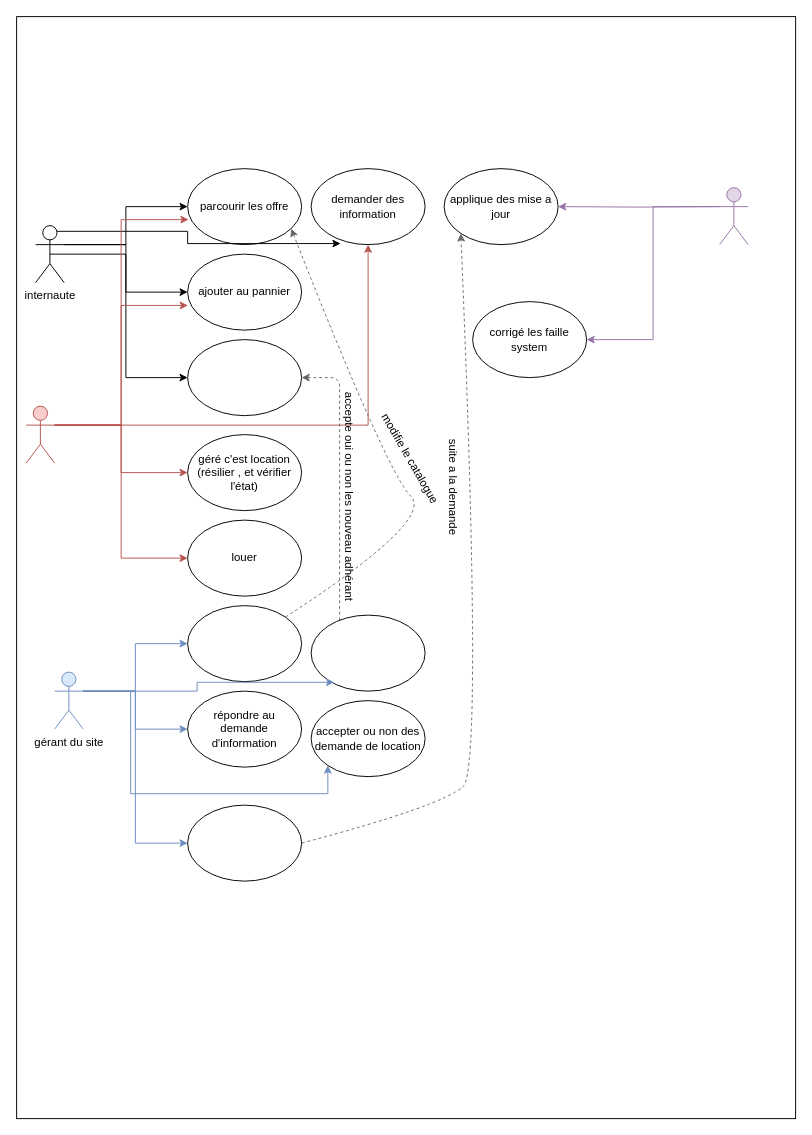
Some shapes in this 812 by 1135 pixel diagram are drawn without their labels. The box of each missing label's shape, as (x1, y1, x2, y2) in pixels:
client: (25, 405, 55, 463)
crée un compte: (187, 339, 302, 416)
demande de nouvelle fonctionnalité au webmmaster: (187, 804, 302, 881)
gérant du site web: (719, 187, 748, 245)
géré les voiture dans sa collection (ajouter , modifier ,supprimer): (187, 605, 302, 682)
vérifier les nouveau adhérant: (310, 614, 425, 691)
